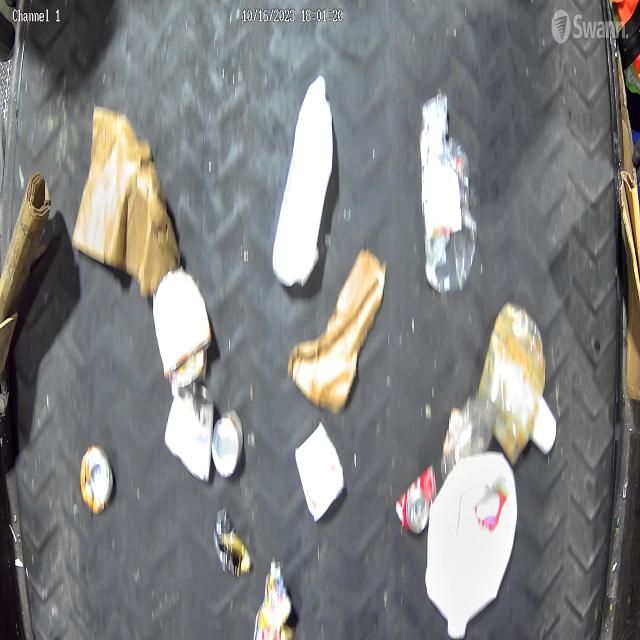can: (164, 382, 215, 481), (397, 465, 437, 537), (80, 446, 113, 513), (212, 409, 244, 477)
milk_jug: (425, 451, 518, 640)
